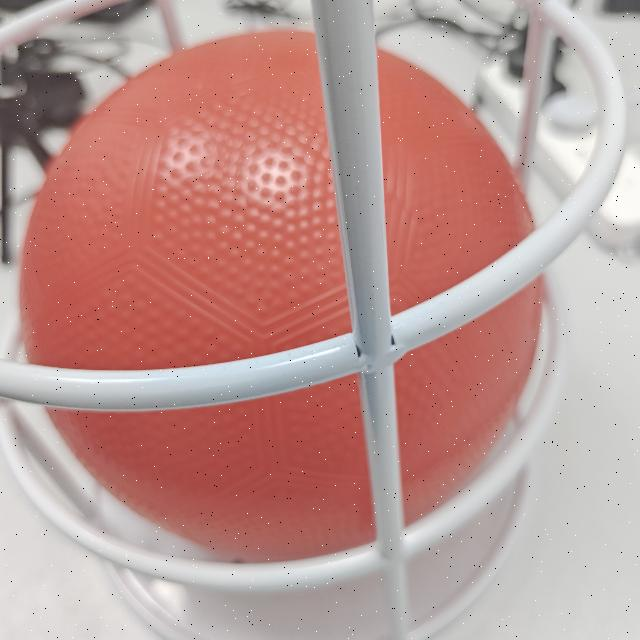R: (19, 29, 542, 568)
S: (0, 0, 622, 640)
